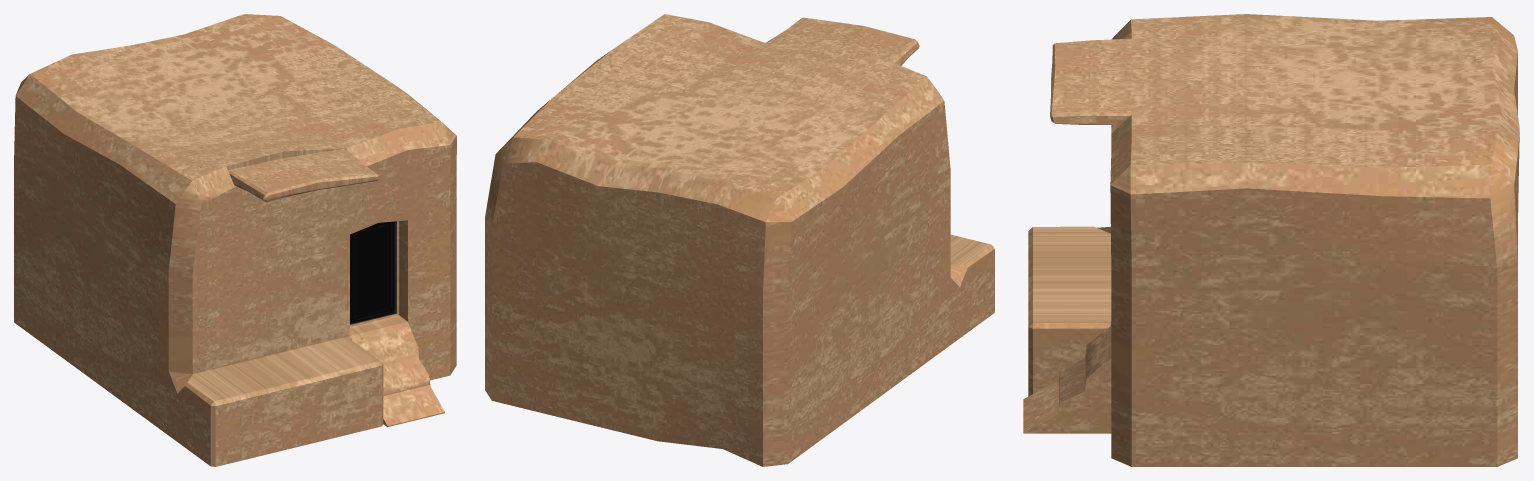
Rendered from Khoone2_2.fbx.
The picture shows the model from 3 angles, left to right: view 1: azimuth 30°, elevation 25°; view 2: azimuth 150°, elevation 25°; view 3: azimuth 270°, elevation 25°; orthographic projection. The views are drawn at different scales.
Parts seen in each view (by area): view 1: pCube2; view 2: pCube2; view 3: pCube2.
Part boxes in pixels (<box>): pCube2: <box>14,14,456,466</box>; pCube2: <box>485,14,994,466</box>; pCube2: <box>1023,14,1519,466</box>.
Size of the model in its own units: 12.32 by 10.43 by 15.5.
